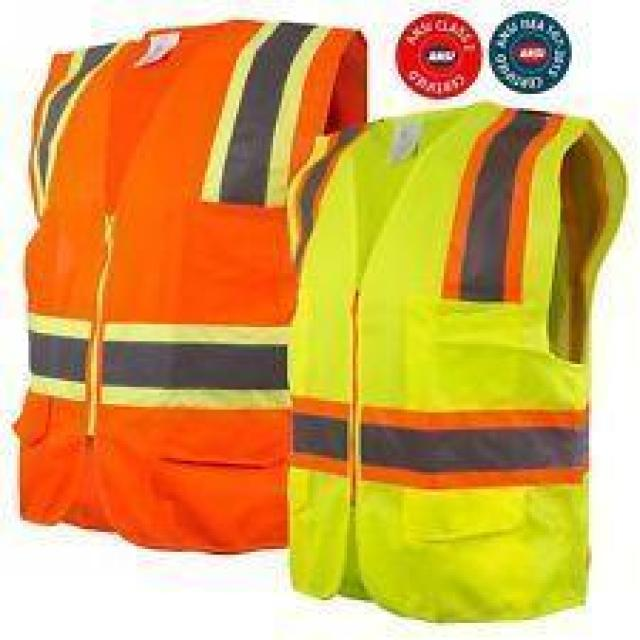Vest: (14, 25, 373, 558), (284, 108, 628, 629)
